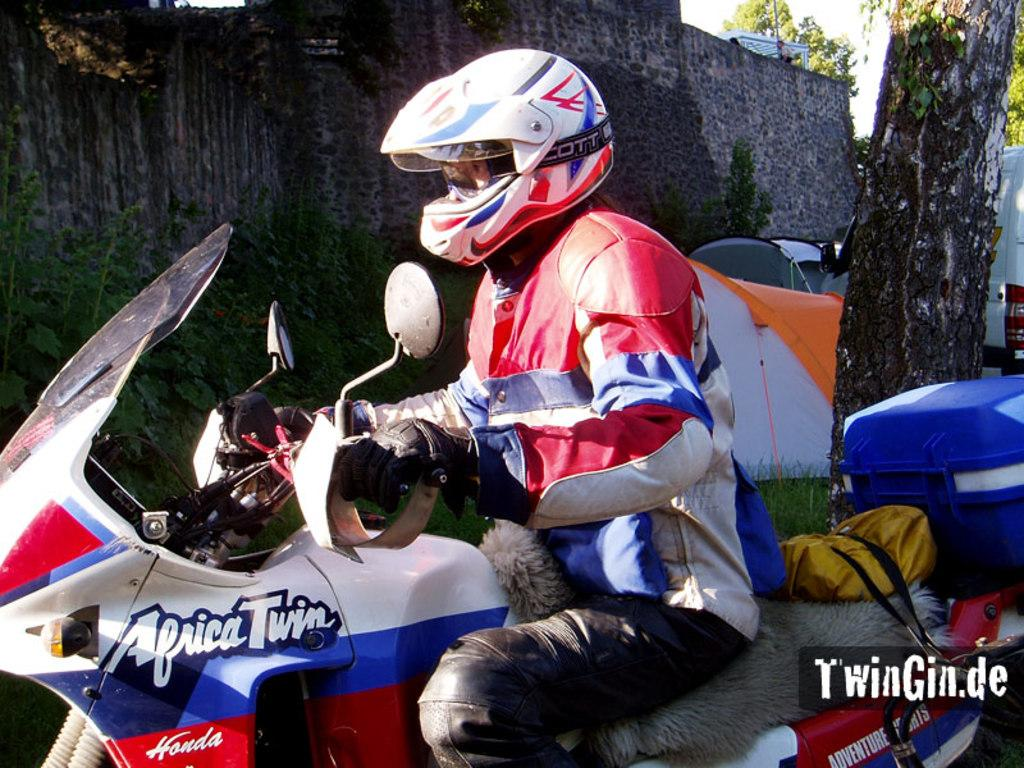helmet: (379, 48, 614, 267)
